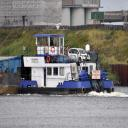tugboat: (18, 24, 116, 99)
